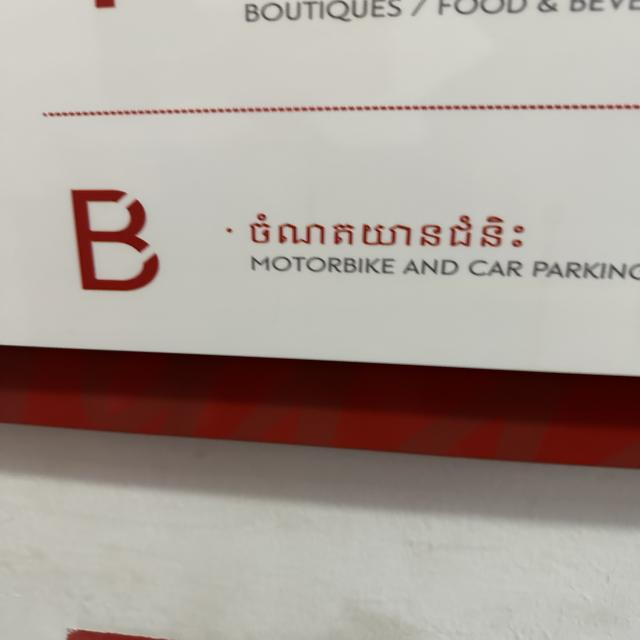Yolov11kh: (232, 210, 536, 257)
